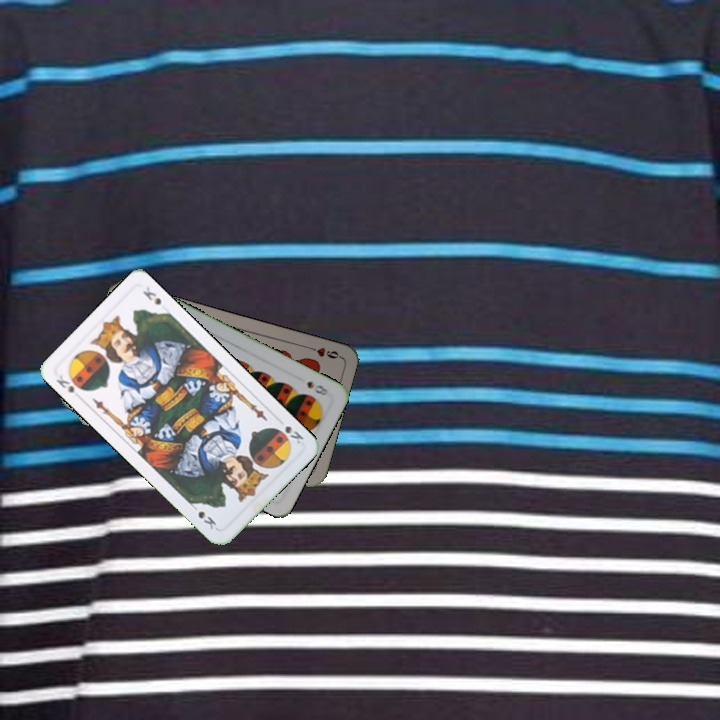H9: (303, 343, 343, 361)
S8: (303, 377, 331, 398)
SK: (52, 371, 85, 402), (281, 422, 306, 446)
